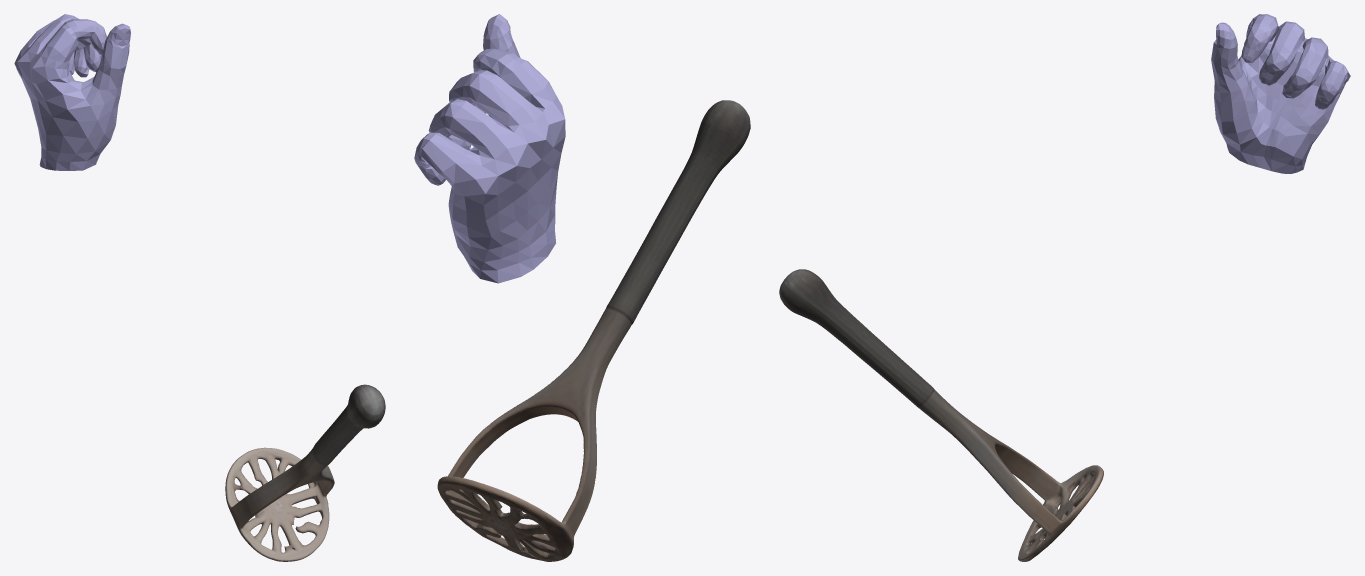
Rendered from frame_0091_source_000091_hand_object.glb.
3 views of the same model, side by side, from view 1: azimuth 30°, elevation 25°; view 2: azimuth 150°, elevation 25°; view 3: azimuth 270°, elevation 25° (orthographic). The views are drawn at different scales.
Parts seen in each view (by area): view 1: world; view 2: world; view 3: world.
Boxes of the visible parts, x1,y1,x2,y2 form: world: (14,14,385,561); world: (414,14,750,561); world: (779,14,1350,561).
Bounding box in the file's own units: 0.1533 × 0.3723 × 0.3886.
